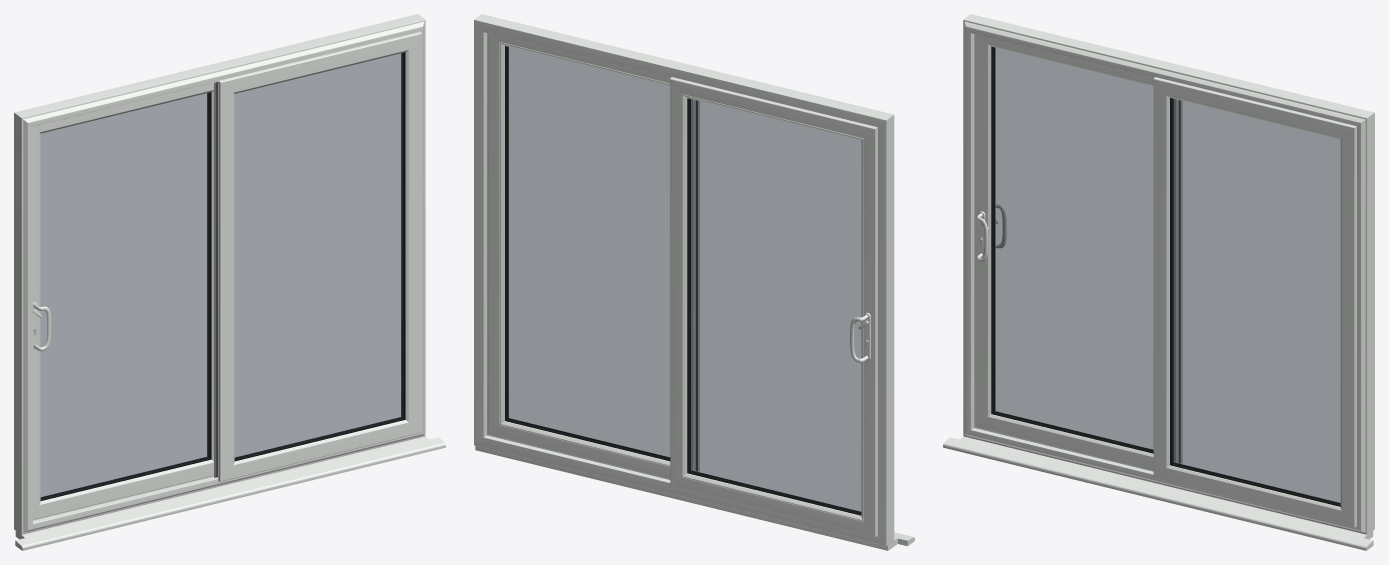
The model's file is upvc-sliding-patio-doors.glb.
The picture shows the model from 3 angles, left to right: view 1: azimuth 30°, elevation 25°; view 2: azimuth 150°, elevation 25°; view 3: azimuth 330°, elevation 25°; orthographic projection. The views are drawn at different scales.
Parts seen in each view (by area): view 1: object 63, object 29, object 64, object 30, Sash (×8), Frame (×4), object 69, Gasket 0 (×4), Spacer (×2), Gasket 2; view 2: object 30, object 29, object 64, object 63, Sash (×8), Frame (×4), Bead (×7), object 69, Spacer (×2), Gasket 0, Gasket 1, Mila_ProLinea_Patio; view 3: object 63, object 64, object 29, object 30, Sash (×8), Frame (×4), object 69, Spacer (×2), Gasket 0 (×2), Gasket 2.
Part boxes in pixels (<box>): object 63: <box>235,53,404,460</box>; object 29: <box>41,93,210,499</box>; object 64: <box>235,54,401,456</box>; object 30: <box>41,94,207,496</box>; Sash (×8): <box>33,31,421,519</box>; Frame (×4): <box>14,14,425,534</box>; object 69: <box>15,436,445,550</box>; Gasket 0 (×4): <box>207,52,405,458</box>; Spacer (×2): <box>208,52,404,458</box>; Gasket 2: <box>216,82,217,477</box>; object 30: <box>688,98,860,514</box>; object 29: <box>690,99,860,512</box>; object 64: <box>505,46,669,460</box>; object 63: <box>508,47,669,456</box>; Sash (×8): <box>488,33,877,536</box>; Frame (×4): <box>474,14,894,545</box>; Bead (×7): <box>500,42,863,520</box>; object 69: <box>475,445,914,550</box>; Spacer (×2): <box>505,46,689,472</box>; Gasket 0: <box>507,47,508,418</box>; Gasket 1: <box>696,100,697,471</box>; Mila_ProLinea_Patio: <box>850,312,870,362</box>; object 63: <box>1170,98,1340,505</box>; object 64: <box>1174,99,1339,503</box>; object 29: <box>992,47,1153,452</box>; object 30: <box>995,48,1152,449</box>; Sash (×8): <box>975,34,1356,527</box>; Frame (×4): <box>963,14,1374,534</box>; object 69: <box>943,436,1373,550</box>; Spacer (×2): <box>992,47,1172,464</box>; Gasket 0 (×2): <box>994,47,1173,462</box>; Gasket 2: <box>1179,100,1180,463</box>.
Size of the model in its own units: 2200 by 2100 by 245.
